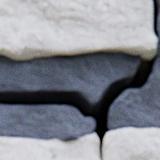brick: (0, 0, 155, 61)
broken_brick: (0, 135, 99, 159), (102, 129, 159, 159)
crack: (0, 0, 159, 159)
